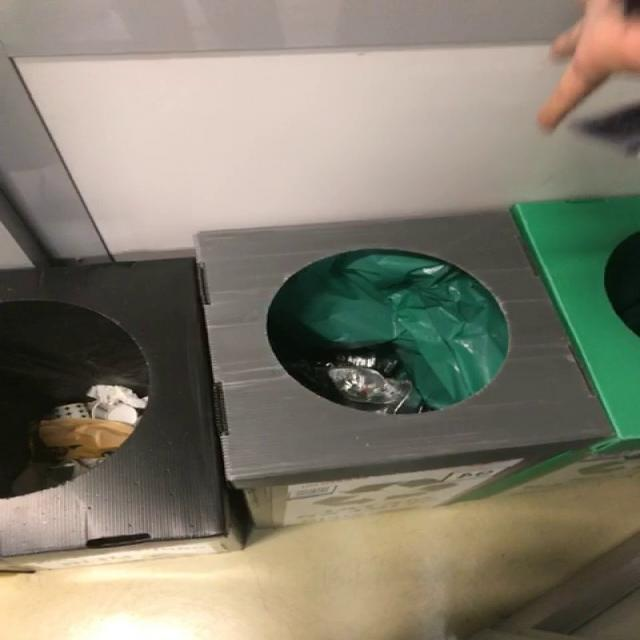bin: (0, 212, 612, 556)
metal: (325, 350, 423, 414)
